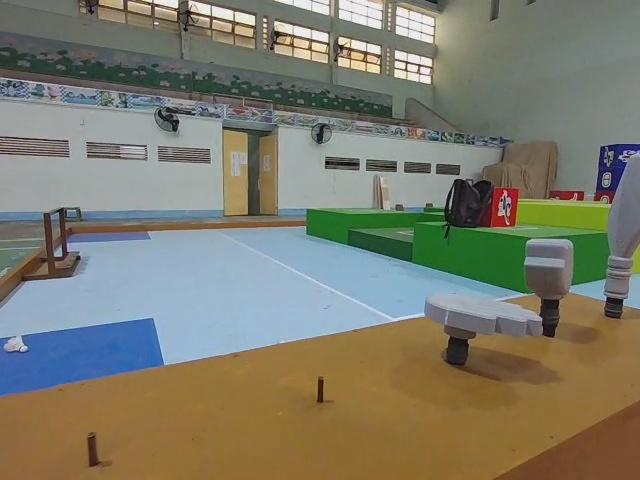Fist: (522, 235, 575, 338)
Hand: (424, 289, 545, 368)
Sph: (603, 153, 640, 320)
